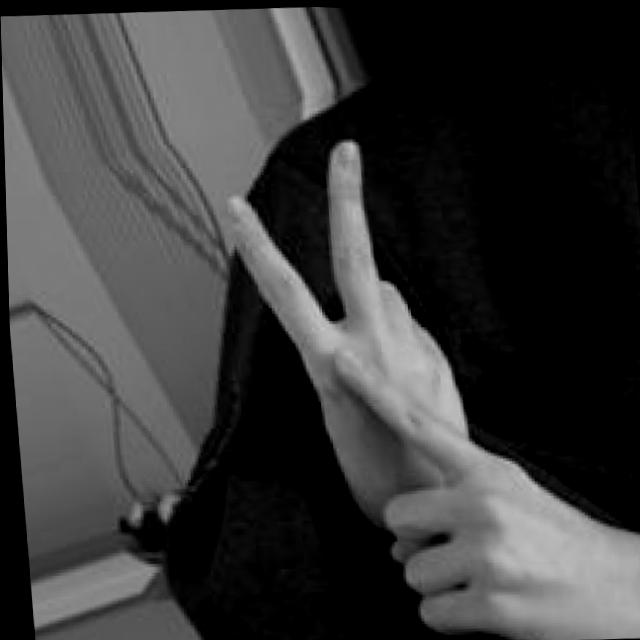Y: (221, 114, 640, 640)
